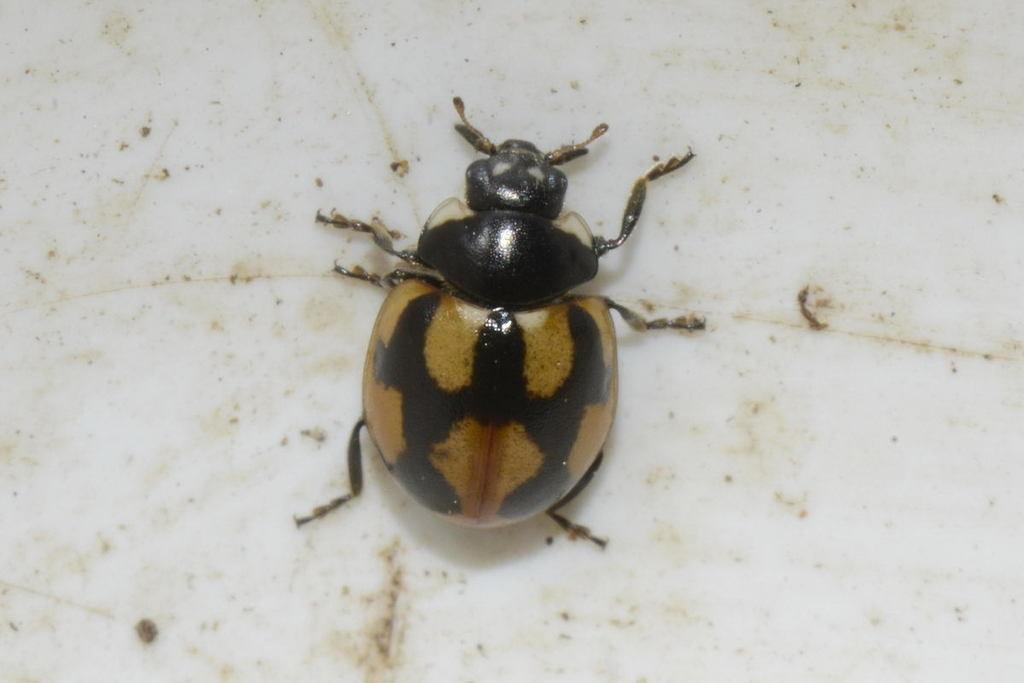ladybug: (291, 84, 717, 562)
